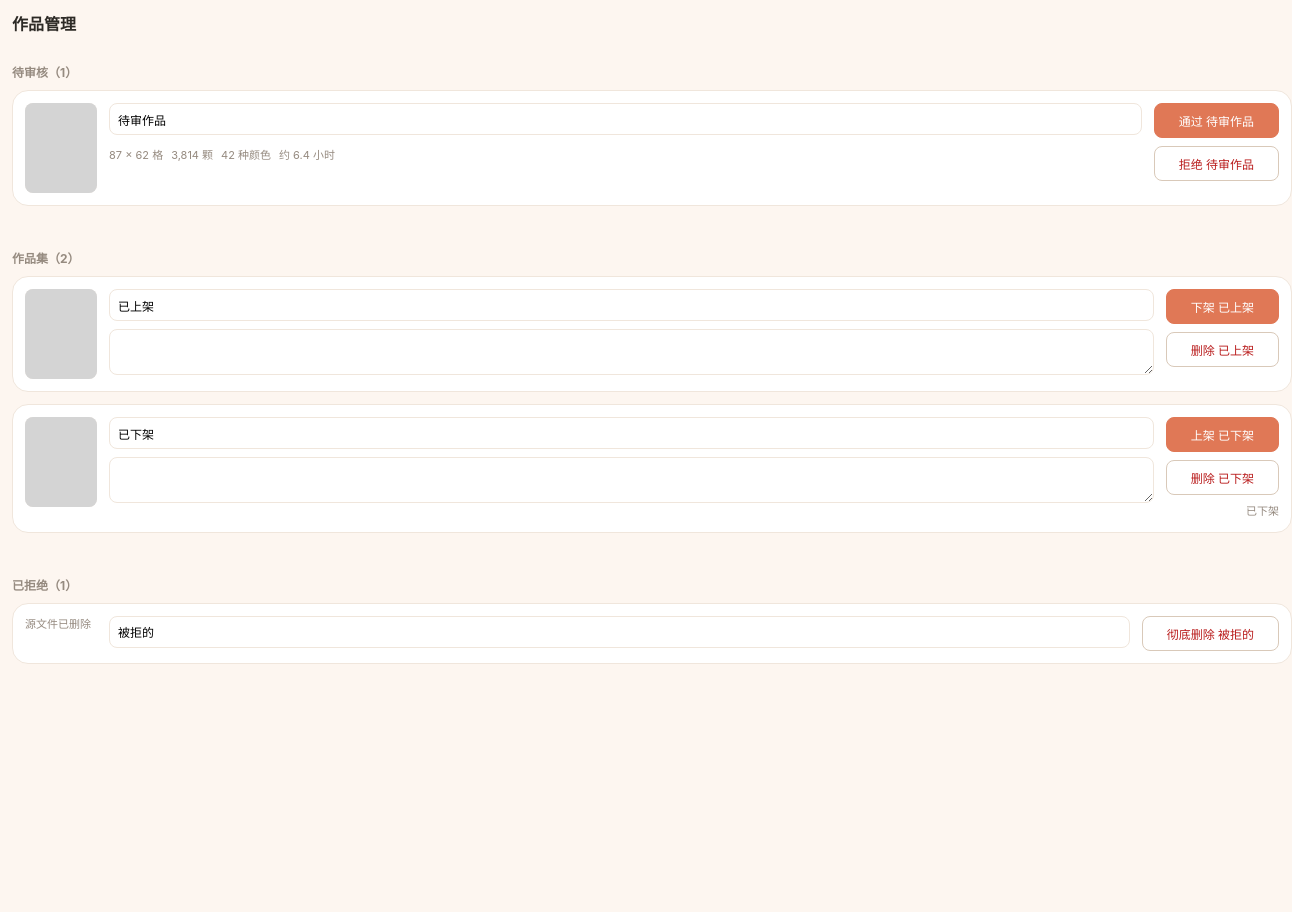
Scenario: WorksTab 审核队列 › 操作失败时回滚并显示中文错误
Click the button "通过 待审作品": (1216, 120) [1154,103,1279,138]
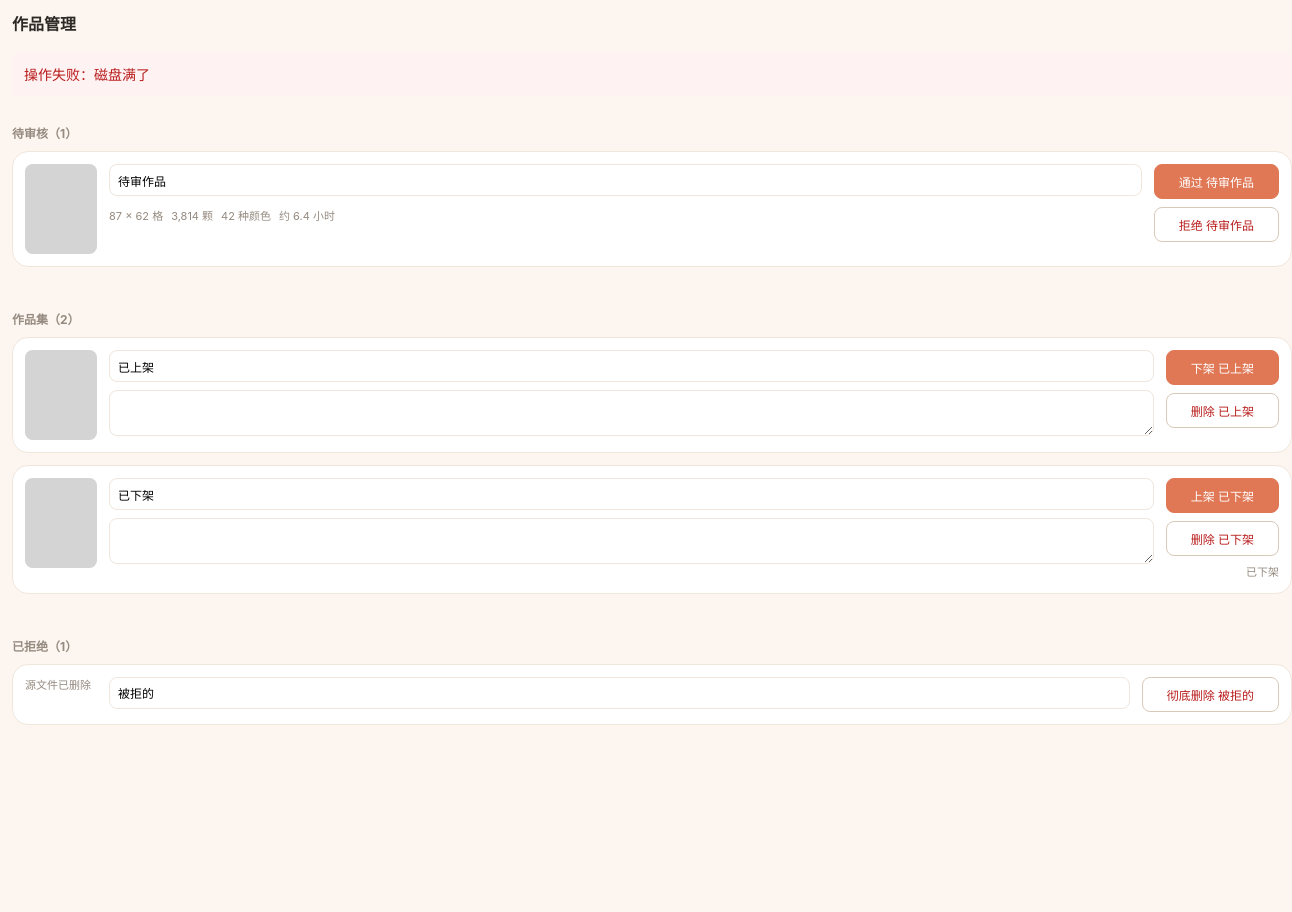
Expected: the button "通过 待审作品" is shown, [1154,164,1279,199]
Result: the message shows "磁盘满了" at [94,66,150,83]
